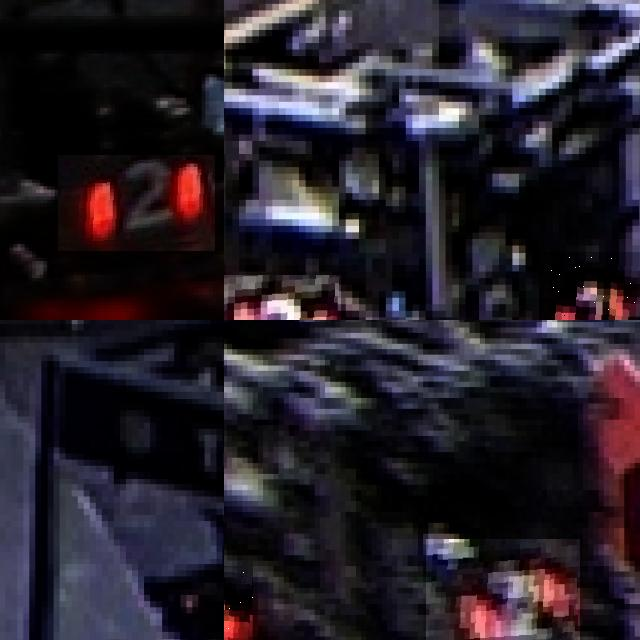R2: (425, 539, 580, 640), (58, 155, 216, 251), (539, 252, 640, 320), (224, 275, 342, 320)
